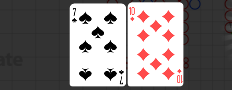10D: (128, 5, 136, 22)
7C: (71, 6, 78, 24)
